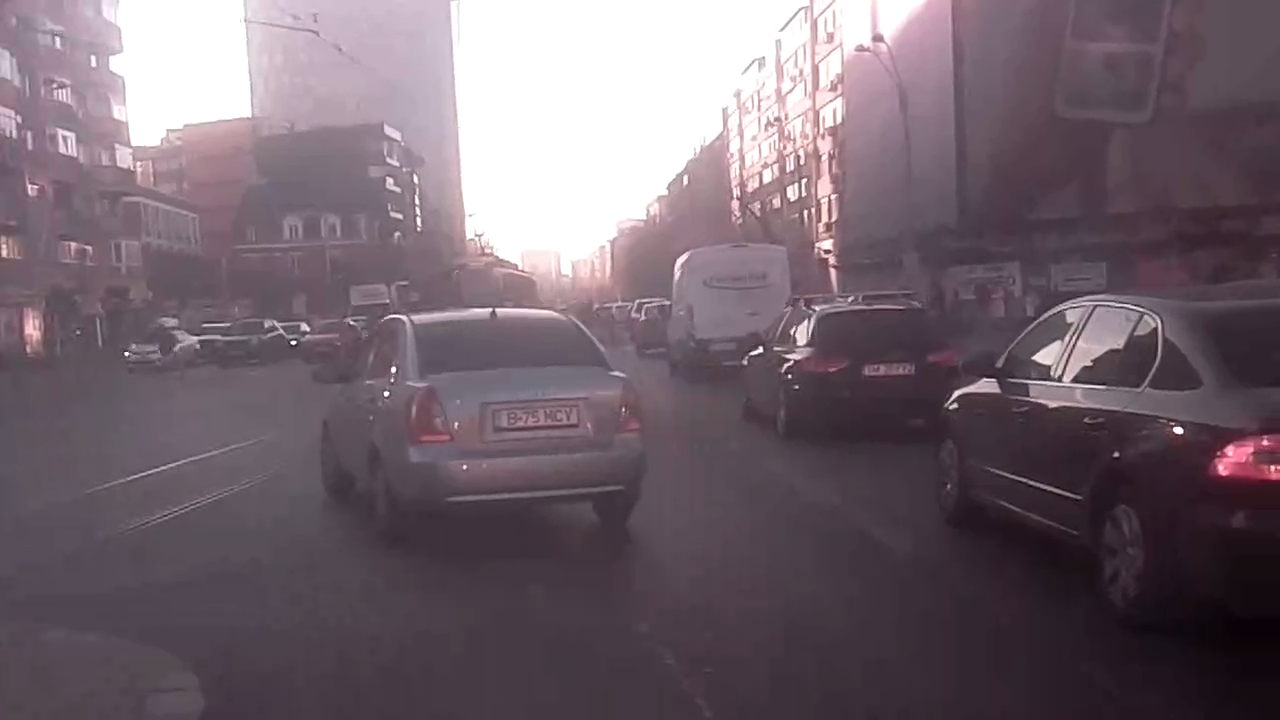license-plate: (489, 401, 584, 433)
